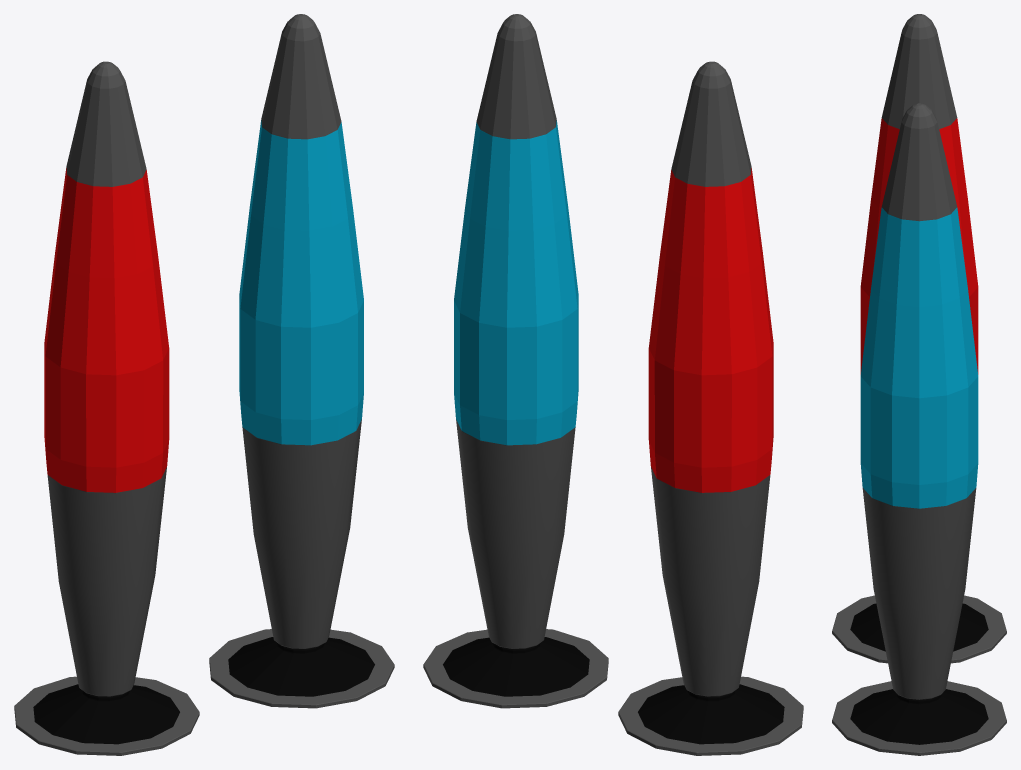
The model's file is lava_lamp.FBX.
3 views of the same model, side by side, from view 1: azimuth 30°, elevation 25°; view 2: azimuth 150°, elevation 25°; view 3: azimuth 270°, elevation 25° (orthographic). The views are drawn at different scales.
Visible parts, largest first — view 1: Cylinder001, Cylinder002, lava_lamp, lava_lamp001; view 2: Cylinder001, Cylinder002, lava_lamp, lava_lamp001; view 3: Cylinder002, lava_lamp001, Cylinder001, lava_lamp.
Boxes of the visible parts, x1,y1,x2,y2 form: Cylinder001: [14, 61, 199, 755]; Cylinder002: [209, 14, 394, 708]; lava_lamp: [44, 168, 169, 492]; lava_lamp001: [239, 120, 363, 445]; Cylinder001: [618, 61, 803, 755]; Cylinder002: [423, 14, 608, 708]; lava_lamp: [648, 168, 773, 492]; lava_lamp001: [454, 120, 578, 445]; Cylinder002: [832, 103, 1006, 755]; lava_lamp001: [860, 207, 978, 508]; Cylinder001: [832, 14, 1006, 663]; lava_lamp: [860, 118, 978, 374].
Size of the model in its own units: 169 by 298 by 76.75.
